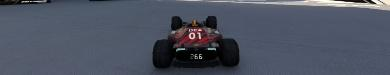Car: (151, 15, 240, 68)
